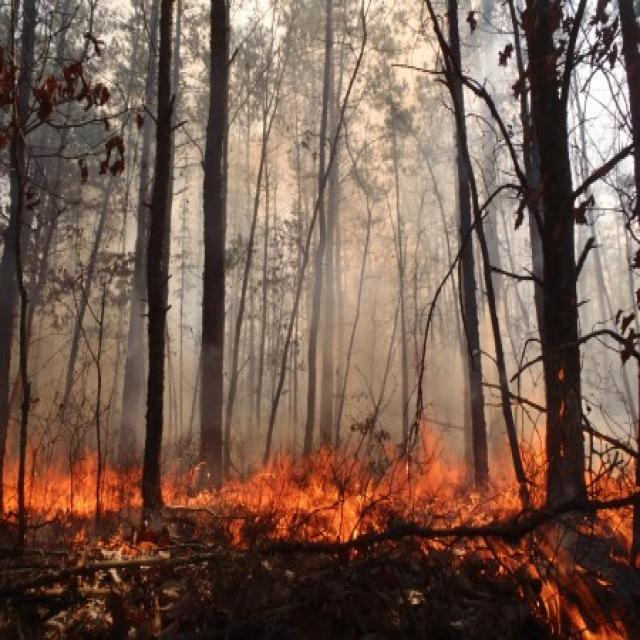fire: (167, 448, 468, 546), (3, 454, 142, 516), (477, 442, 542, 511)
smoke: (262, 121, 447, 368)
